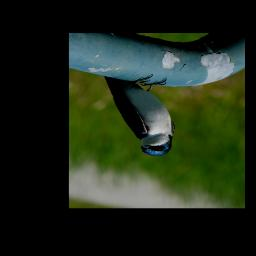Swallow: (104, 73, 177, 157)
